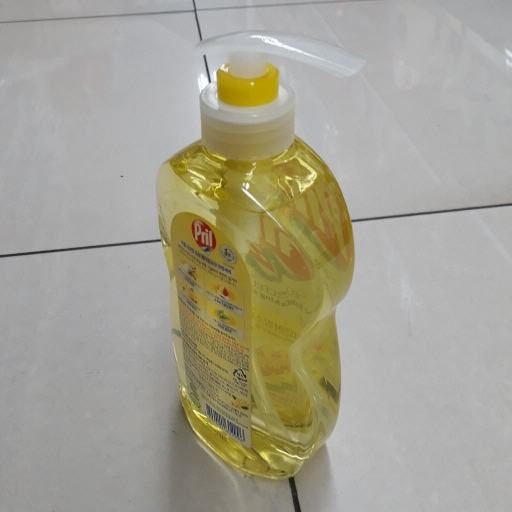Plastic_3: (152, 31, 369, 481)
